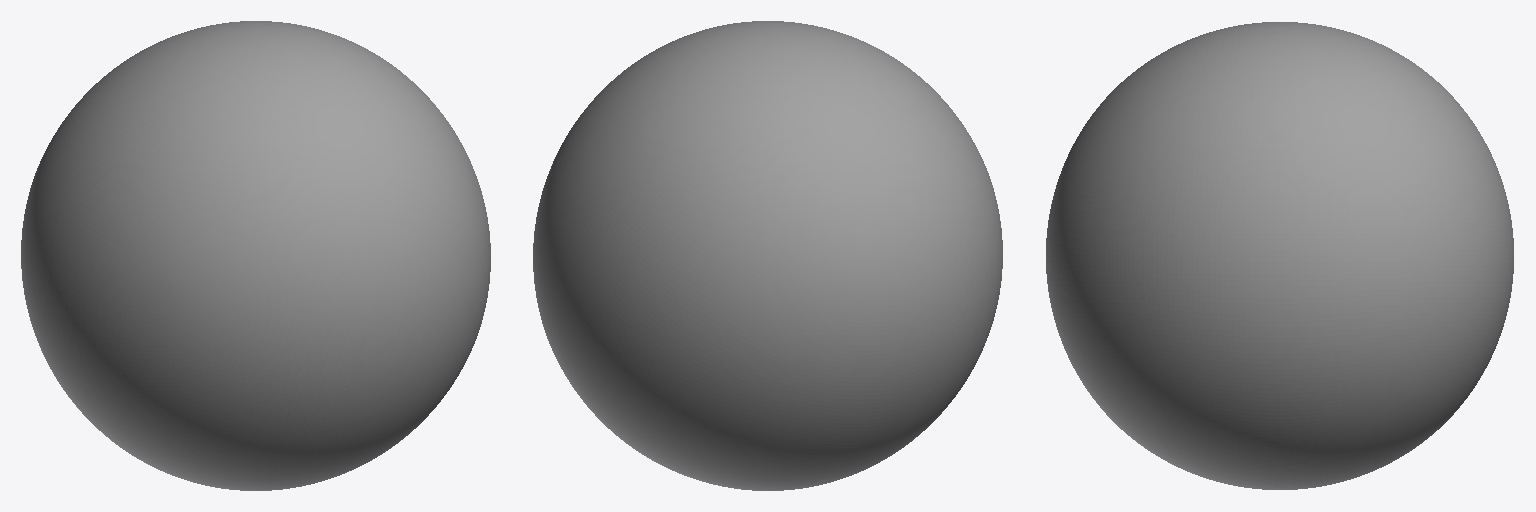
Rendered from tars_prime.obj.
3 views of the same model, side by side, from view 1: azimuth 30°, elevation 25°; view 2: azimuth 150°, elevation 25°; view 3: azimuth 270°, elevation 25° (orthographic).
Parts seen in each view (by area): view 1: planet_Cube; view 2: planet_Cube; view 3: planet_Cube.
Boxes of the visible parts, box(x1,y1,x2,y2) form: planet_Cube: box(21, 21, 490, 490); planet_Cube: box(533, 21, 1002, 490); planet_Cube: box(1046, 22, 1513, 489).
Size of the model in its own units: 1.71 by 1.71 by 1.71.